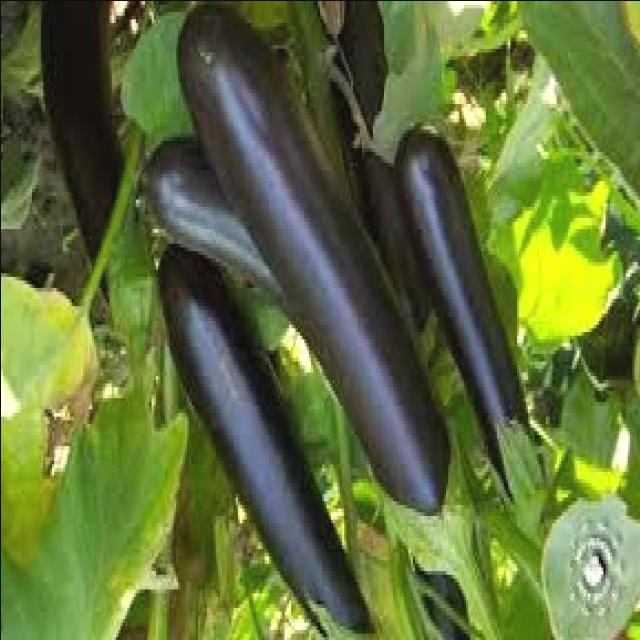eggplant: (179, 4, 453, 519), (397, 134, 543, 516)
